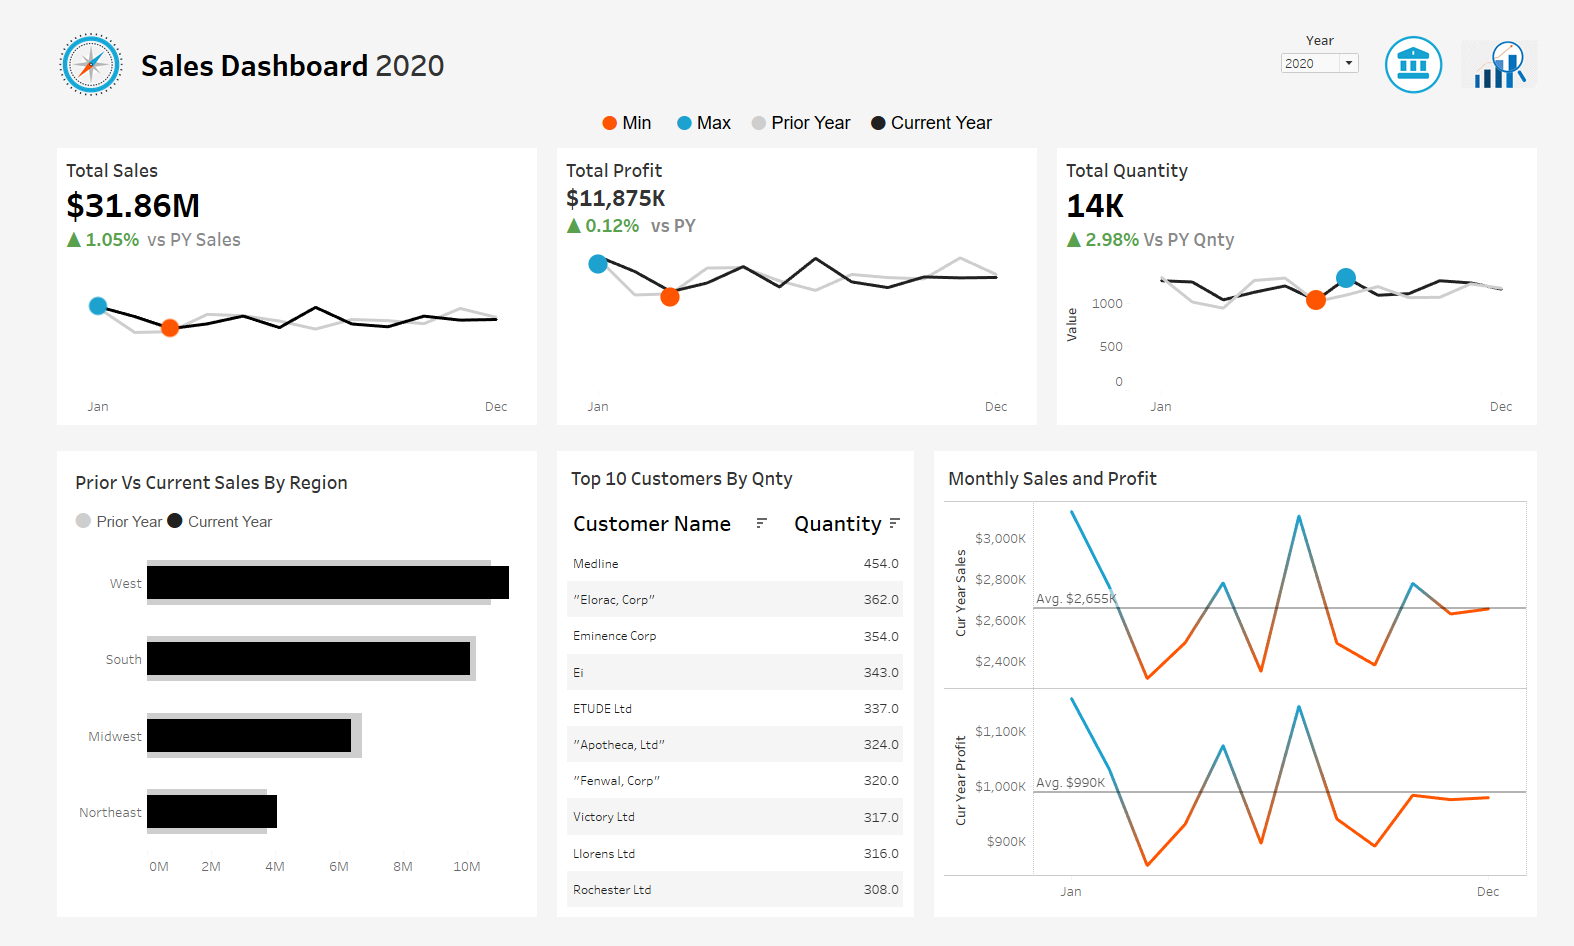

The page's visual inventory and layout, read from the dashboard file:
{"tool":"tableau","page":{"name":"Sales Dashboard v2","canvas":[1500,900],"ordinal":2},"visuals":[{"type":"image","param":"Image/Icon - Logo.png","box":[0,0,87,75]},{"type":"text","box":[87,0,1140,75]},{"type":"parameter","param":"[Parameters].[Parameter 1]","box":[1227,0,92,75]},{"type":"dashboard-object","box":[1323,4,87,67]},{"type":"dashboard-object","box":[1410,4,86,67]},{"type":"worksheet","title":"min-max","mark":"Automatic","box":[0,75,1500,46]},{"type":"worksheet","title":"KPI Sales","mark":"Automatic","rows":["Calculation_1201335225960398853"],"cols":["order_date"],"box":[0,121,500,287]},{"type":"worksheet","title":"KPI Profit","mark":"Automatic","rows":["MIN/MAX Sales (copy)_1201335225964490764"],"cols":["order_date"],"box":[500,121,500,287]},{"type":"worksheet","title":"KPI Quantity","mark":"Line","rows":["MIN/MAX Sales (copy)_1201335225968066578"],"cols":["order_date"],"box":[1000,121,500,287]},{"type":"worksheet","title":"Top Customers","mark":"Automatic","rows":["customer_name"],"box":[500,414,377,486]},{"type":"worksheet","title":"monthly sales","mark":"Line","rows":["Calculation_1201335225952346113","Calculation_1201335225963917321"],"cols":["order_date"],"box":[877,414,623,486]},{"type":"worksheet","title":"Region Title","mark":"Automatic","box":[20,434,460,37]},{"type":"worksheet","title":"Region Legend","mark":"Automatic","box":[20,471,460,46]},{"type":"worksheet","title":"Region Comparision","mark":"Bar","rows":["region (dim_region)"],"cols":["Calculation_1201335225952522242","Calculation_1201335225952346113"],"box":[20,517,460,363]}]}

Visuals, with their boxes in screenshot pixels (x1, y1, x2, y2), scaled from the page's 1500x900 canvas onto the 1574x946 screenshot:
image: 0, 0, 91, 79
text: 91, 0, 1288, 79
parameter: 1288, 0, 1384, 79
dashboard-object: 1388, 4, 1480, 75
dashboard-object: 1480, 4, 1570, 75
"min-max" worksheet: 0, 79, 1573, 127
"KPI Sales" worksheet: 0, 127, 525, 429
"KPI Profit" worksheet: 525, 127, 1049, 429
"KPI Quantity" worksheet (Line marks): 1049, 127, 1573, 429
"Top Customers" worksheet: 525, 435, 920, 945
"monthly sales" worksheet (Line marks): 920, 435, 1573, 945
"Region Title" worksheet: 21, 456, 504, 495
"Region Legend" worksheet: 21, 495, 504, 543
"Region Comparision" worksheet (Bar marks): 21, 543, 504, 925
